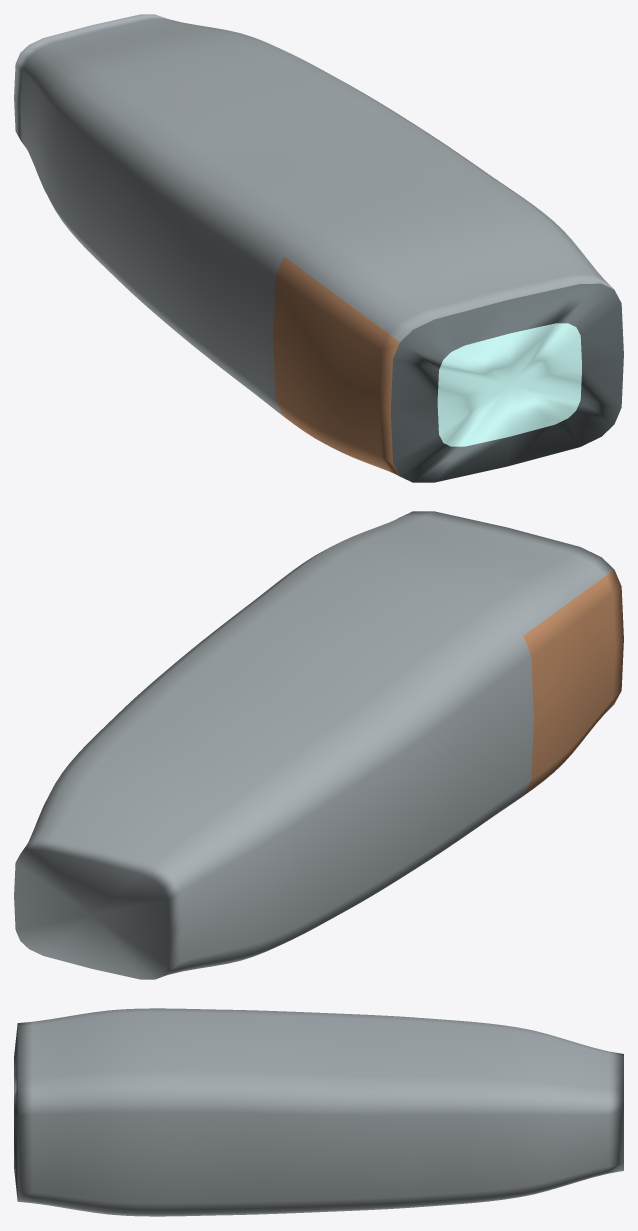
The model's file is exponent_ff.glb.
3 views of the same model, one above another, from view 1: azimuth 30°, elevation 25°; view 2: azimuth 150°, elevation 25°; view 3: azimuth 270°, elevation 25° (orthographic). The views are drawn at different scales.
Visible parts, largest first — view 1: hull_mesh; view 2: hull_mesh; view 3: hull_mesh.
Part boxes in pixels (x1,y1,x2,y2): hull_mesh: (14, 14, 623, 482); hull_mesh: (14, 511, 623, 979); hull_mesh: (14, 1008, 623, 1216).
Bounding box in the file's own units: 23.21 × 16.86 × 64.38.
